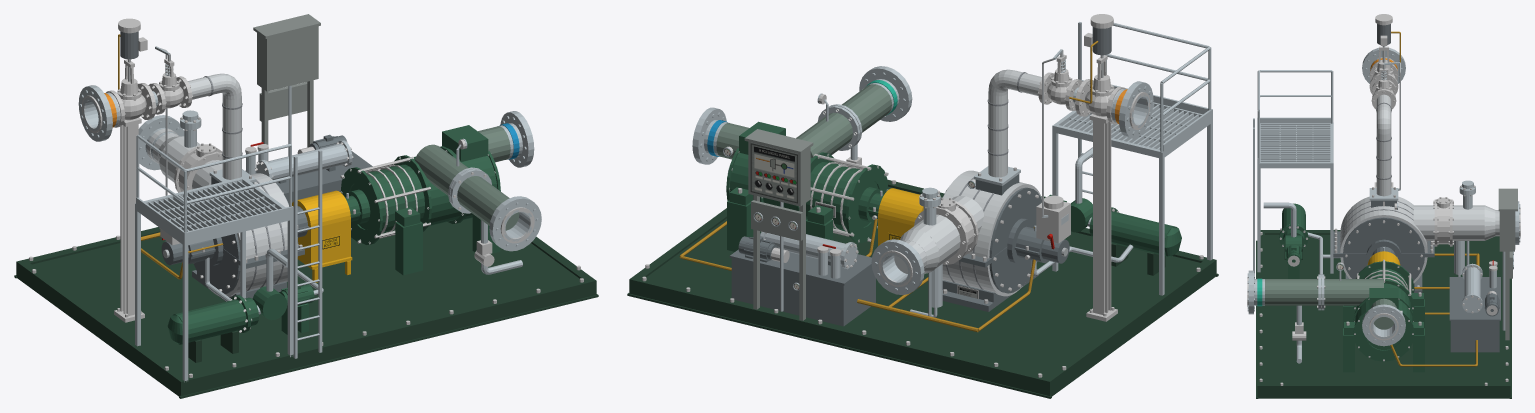
Rendered from compact.obj.
The picture shows the model from 3 angles, left to right: view 1: azimuth 30°, elevation 25°; view 2: azimuth 150°, elevation 25°; view 3: azimuth 270°, elevation 25°; orthographic projection. The views are drawn at different scales.
Bounding box in the file's own units: 0.9 × 0.6138 × 0.6429.
